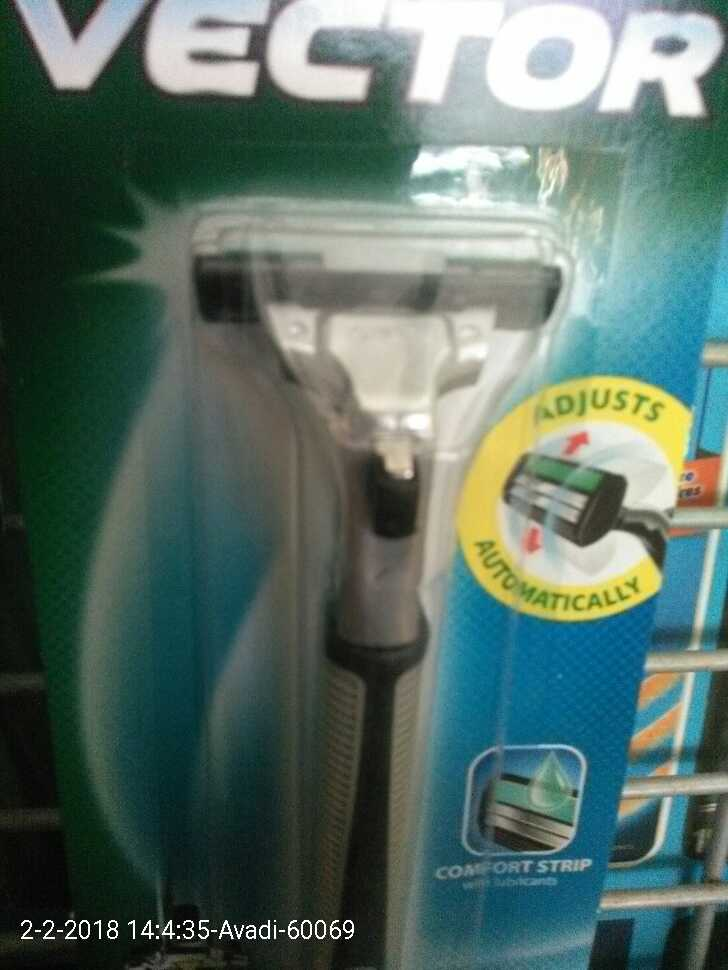beauty: (174, 180, 568, 969)
